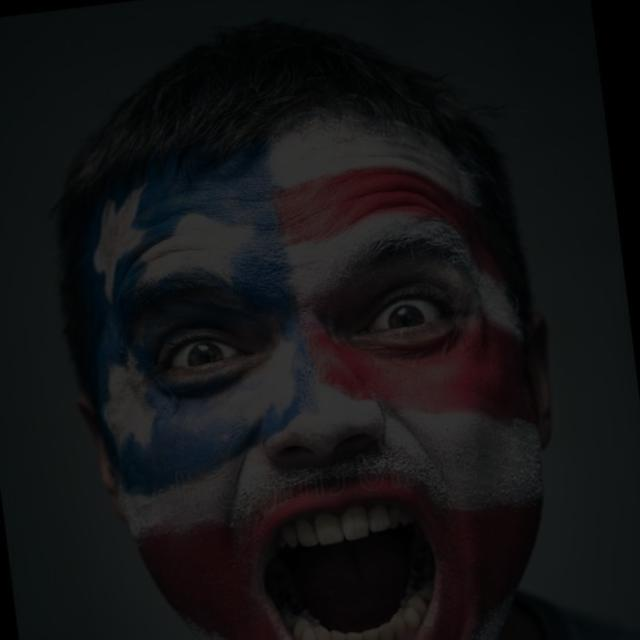Angry: (66, 94, 561, 640)
